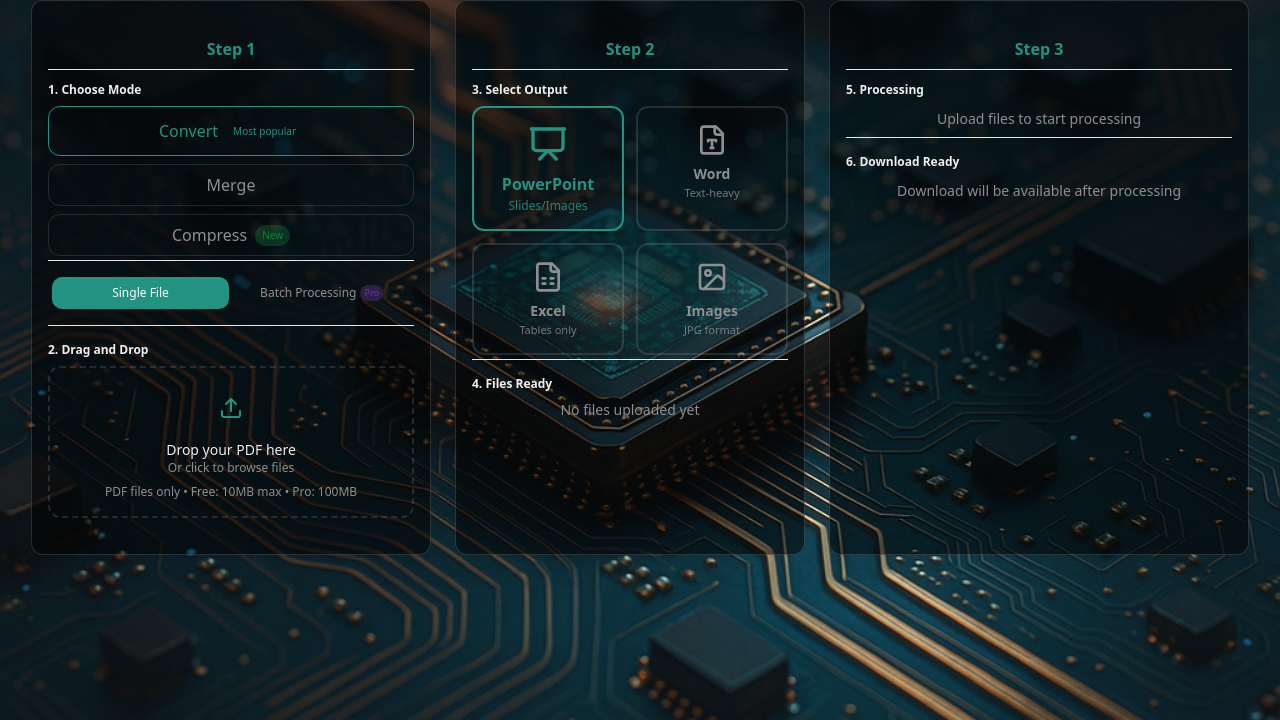
Test: UnifiedConversionInterface › Excel Format Warning › should show Excel warning when Excel format is selected
The width and height of the screenshot is (1280, 720).
Click the button with test id "output-format-option-excel". click: click(548, 299)
box: [472,243,624,355]
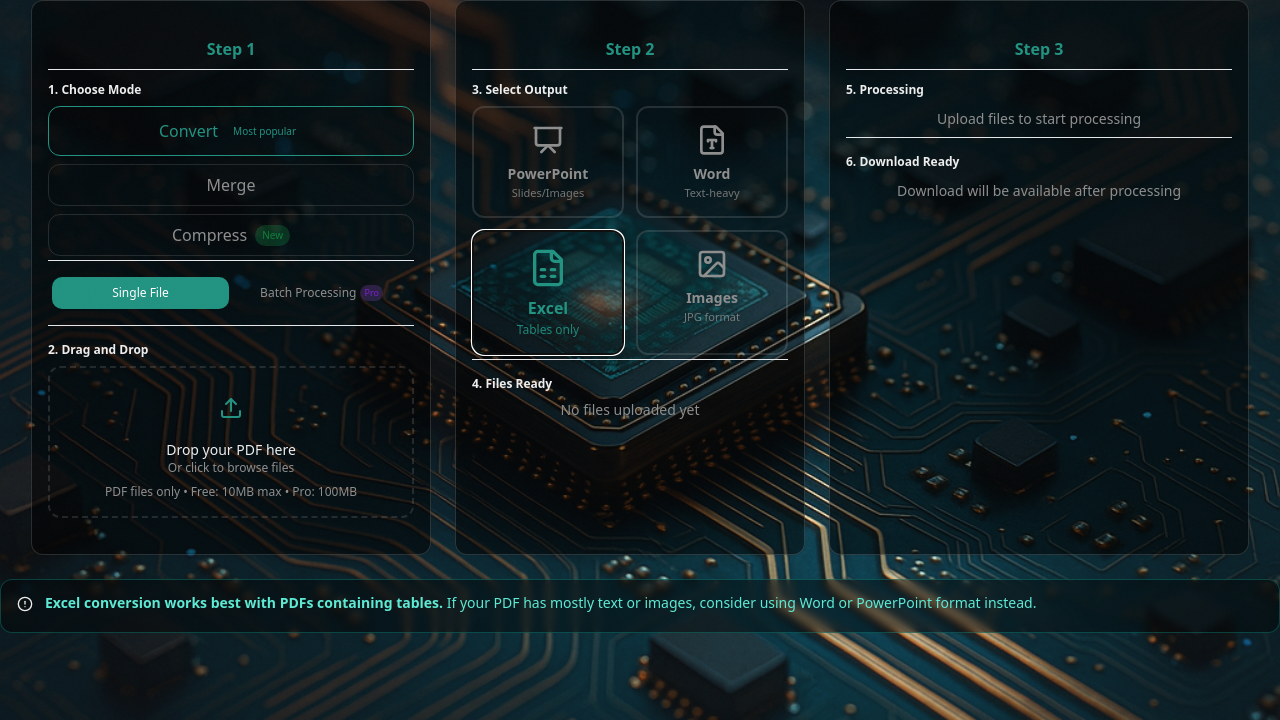
Result: the text "Excel conversion works best with PDFs containing tables." is shown at [45,593,443,612]
